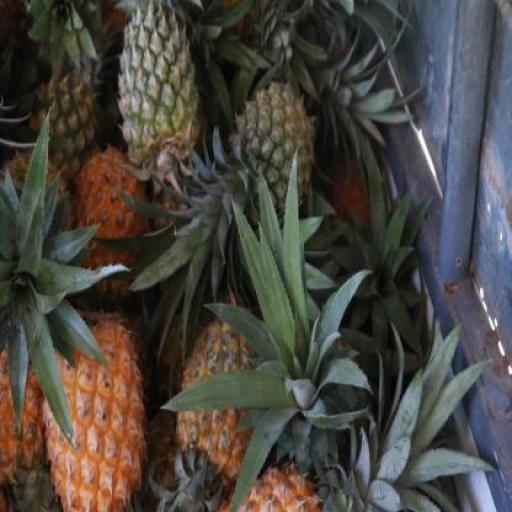Pineapple - v8 v1: (31, 303, 144, 511)
